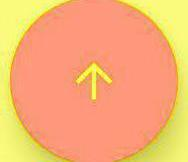ImgButton: (1, 1, 187, 161)
